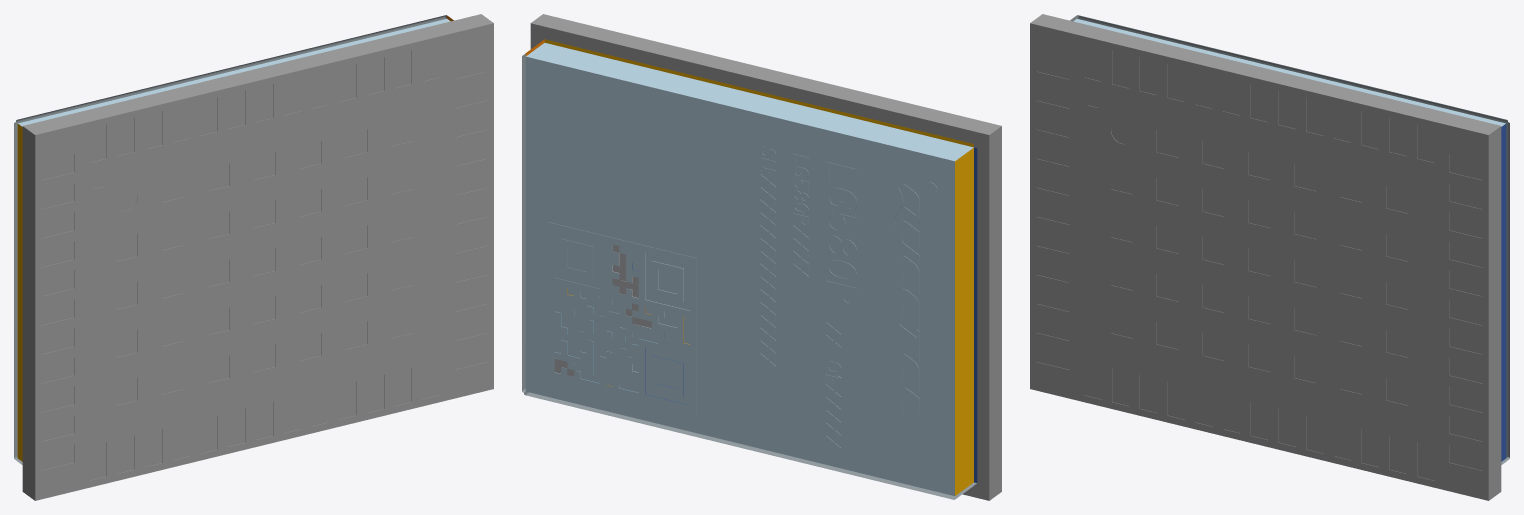
Rendered from sfe-quectel_lg580p.glb.
3 renders of one model, left to right at view 1: azimuth 30°, elevation 25°; view 2: azimuth 150°, elevation 25°; view 3: azimuth 330°, elevation 25°, orthographic.
Visible parts, largest first — view 1: 0.4166666666666667_0.4166666666666667_0.4166666666666667_0, 0.3333333333333333_0.4166666666666667_0.4166666666666667_0, 0.9166666666666666_0.5_0_0, 0.5833333333333334_0.75_0.9166666666666666_0; view 2: 0.5833333333333334_0.75_0.9166666666666666_0, 0.4166666666666667_0.4166666666666667_0.4166666666666667_0, 0.9166666666666666_0.5_0_0, 0.3333333333333333_0.4166666666666667_0.4166666666666667_0, 0.08333333333333333_0.08333333333333333_0.4166666666666667_0, 0.5833333333333334_0.5833333333333334_0.5833333333333334_0.8; view 3: 0.4166666666666667_0.4166666666666667_0.4166666666666667_0, 0.3333333333333333_0.4166666666666667_0.4166666666666667_0, 0.08333333333333333_0.08333333333333333_0.4166666666666667_0, 0.5833333333333334_0.75_0.9166666666666666_0.
Part boxes in pixels (bbox=[...]): 0.4166666666666667_0.4166666666666667_0.4166666666666667_0: bbox=[22, 14, 493, 500]; 0.3333333333333333_0.4166666666666667_0.4166666666666667_0: bbox=[14, 15, 446, 464]; 0.9166666666666666_0.5_0_0: bbox=[17, 124, 22, 461]; 0.5833333333333334_0.75_0.9166666666666666_0: bbox=[18, 19, 450, 126]; 0.5833333333333334_0.75_0.9166666666666666_0: bbox=[525, 43, 973, 495]; 0.4166666666666667_0.4166666666666667_0.4166666666666667_0: bbox=[530, 14, 1001, 500]; 0.9166666666666666_0.5_0_0: bbox=[544, 39, 973, 495]; 0.3333333333333333_0.4166666666666667_0.4166666666666667_0: bbox=[522, 53, 976, 499]; 0.08333333333333333_0.08333333333333333_0.4166666666666667_0: bbox=[632, 147, 977, 482]; 0.5833333333333334_0.5833333333333334_0.5833333333333334_0.8: bbox=[554, 244, 651, 376]; 0.4166666666666667_0.4166666666666667_0.4166666666666667_0: bbox=[1030, 14, 1501, 500]; 0.3333333333333333_0.4166666666666667_0.4166666666666667_0: bbox=[1070, 15, 1509, 464]; 0.08333333333333333_0.08333333333333333_0.4166666666666667_0: bbox=[1501, 123, 1506, 461]; 0.5833333333333334_0.75_0.9166666666666666_0: bbox=[1073, 19, 1505, 126].
Size of the model in its own units: 2.1 by 1.6 by 0.27.
